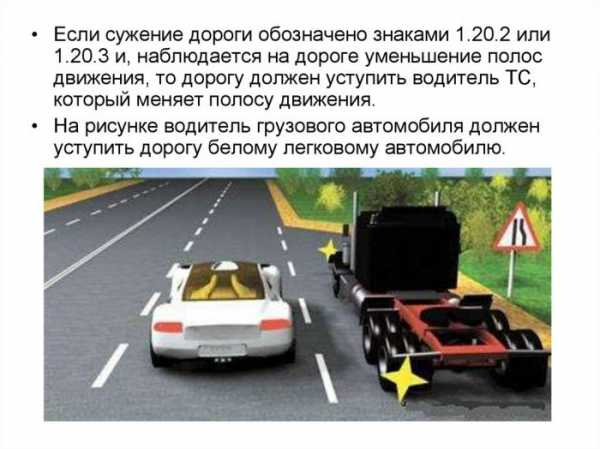1.18.2: (494, 202, 541, 251)
